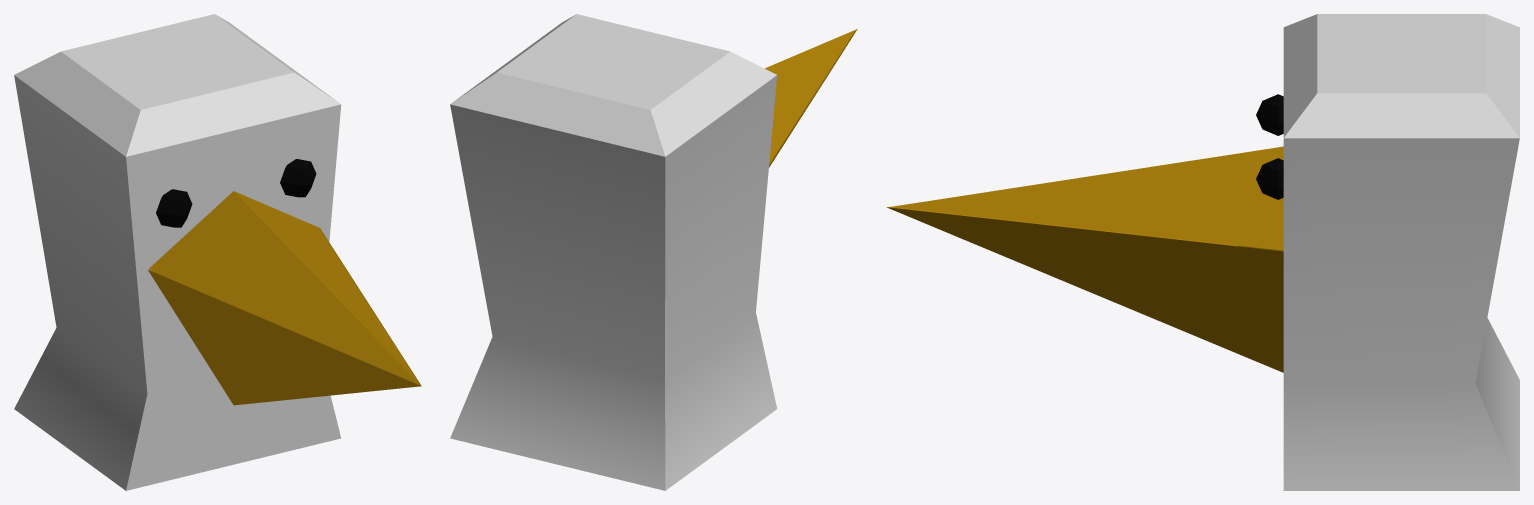
Rendered from Pelicano_cabeza (1).fbx.
3 renders of one model, left to right at view 1: azimuth 30°, elevation 25°; view 2: azimuth 150°, elevation 25°; view 3: azimuth 270°, elevation 25°, orthographic. The views are drawn at different scales.
Parts seen in each view (by area): view 1: Capocha, Pico_sup, Pico_inf, Ojos; view 2: Capocha, Pico_sup; view 3: Capocha, Pico_inf, Pico_sup, Ojos.
Part boxes in pixels (left/top/right/bottom): Capocha: left=14, top=14, right=341, bottom=490; Pico_sup: left=149, top=191, right=419, bottom=383; Pico_inf: left=148, top=227, right=421, bottom=405; Ojos: left=156, top=159, right=316, bottom=227; Capocha: left=450, top=14, right=777, bottom=490; Pico_sup: left=765, top=30, right=855, bottom=163; Capocha: left=1283, top=14, right=1519, bottom=490; Pico_inf: left=886, top=206, right=1283, bottom=372; Pico_sup: left=891, top=146, right=1283, bottom=250; Ojos: left=1256, top=94, right=1283, bottom=199.
Size of the model in its own units: 2.4 by 3.85 by 5.79.
